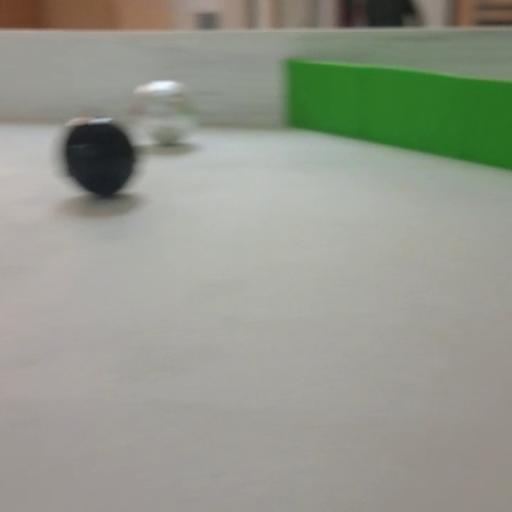alive: (126, 78, 201, 148)
dead: (56, 116, 139, 198)
